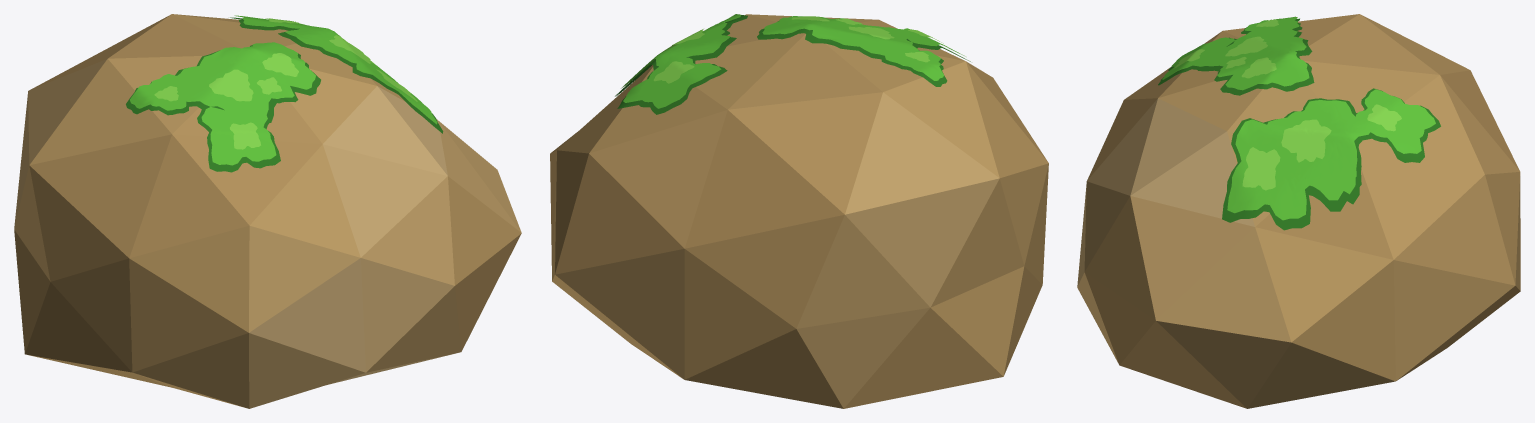
The model's file is rock_2_dots.glb.
3 renders of one model, left to right at view 1: azimuth 30°, elevation 25°; view 2: azimuth 150°, elevation 25°; view 3: azimuth 270°, elevation 25°, orthographic. The views are drawn at different scales.
Parts seen in each view (by area): view 1: rock_2_dots; view 2: rock_2_dots; view 3: rock_2_dots.
Boxes of the visible parts, x1,y1,x2,y2 form: rock_2_dots: [14, 14, 521, 408]; rock_2_dots: [550, 14, 1048, 408]; rock_2_dots: [1077, 14, 1520, 408].
Size of the model in its own units: 1.89 by 1.19 by 1.67.
